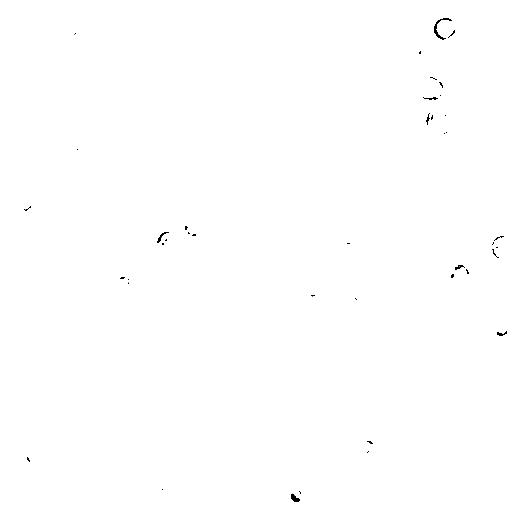micro-algae: (196, 33, 359, 200), (155, 43, 277, 179), (302, 41, 359, 101), (351, 327, 405, 382), (117, 377, 164, 425), (181, 445, 225, 490), (79, 258, 123, 299), (291, 449, 327, 483), (387, 283, 422, 317), (63, 132, 93, 165), (426, 105, 456, 137), (145, 472, 175, 503), (155, 229, 184, 260), (111, 172, 141, 201), (406, 36, 435, 66), (139, 241, 170, 269), (415, 76, 447, 102), (431, 15, 459, 41), (489, 232, 511, 263), (179, 71, 203, 97), (65, 5, 89, 30), (153, 265, 177, 289), (26, 443, 50, 467), (14, 189, 36, 214), (349, 277, 371, 302), (449, 263, 471, 287), (111, 348, 136, 369), (329, 365, 351, 388), (401, 257, 424, 279), (123, 466, 141, 490), (69, 32, 89, 53), (151, 361, 169, 382), (303, 278, 321, 297), (116, 275, 134, 292), (337, 240, 356, 256), (289, 487, 305, 504), (360, 438, 377, 454), (183, 222, 200, 237), (102, 229, 120, 243), (333, 259, 351, 273), (493, 320, 509, 335), (188, 0, 211, 9)
